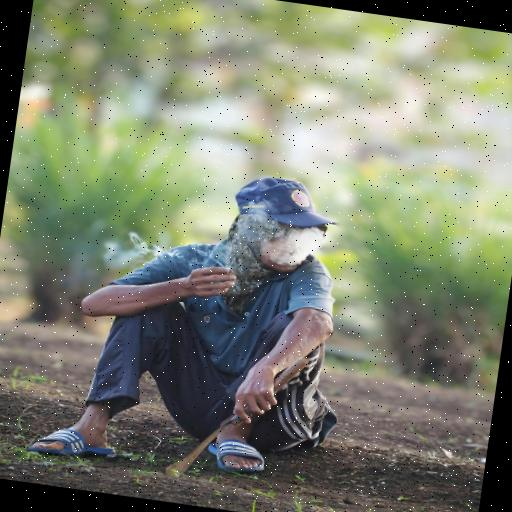pegang rokok: (182, 232, 258, 310)
